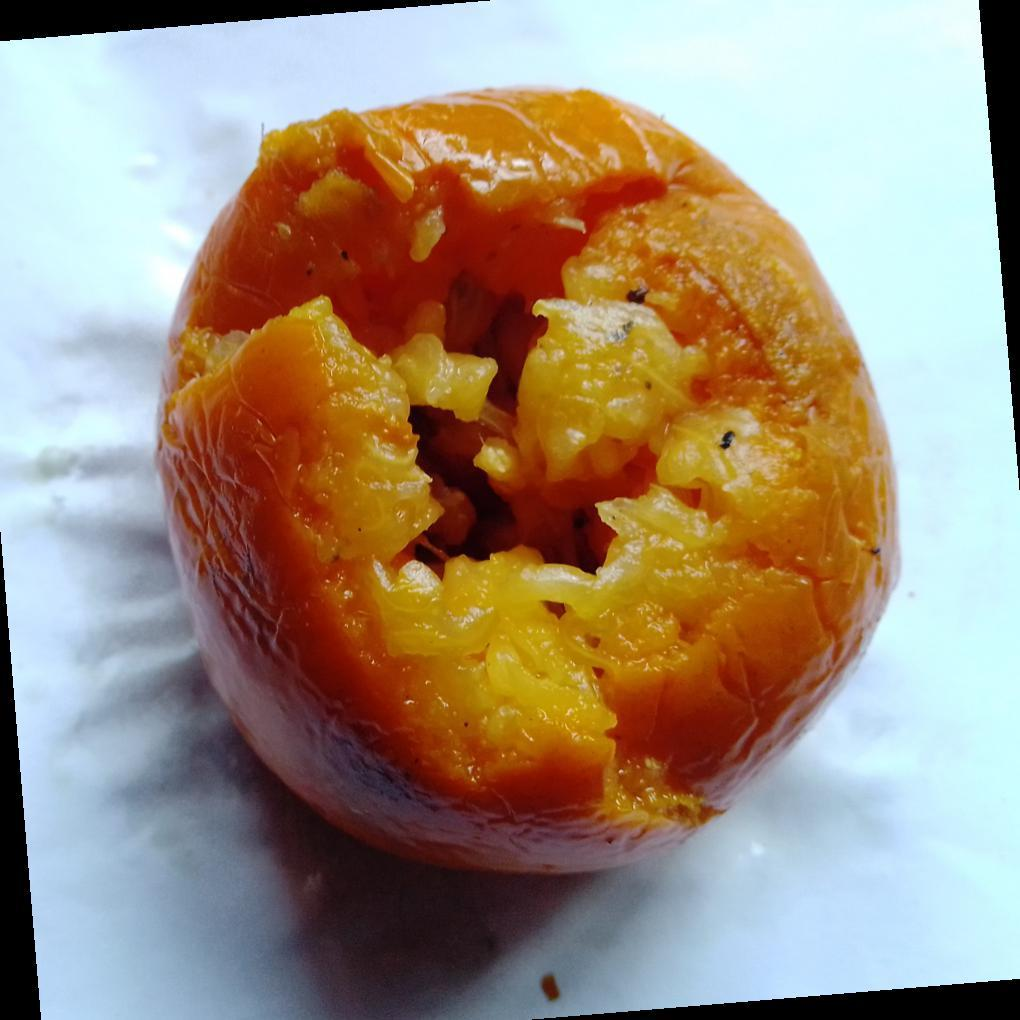FreshOrange: (154, 88, 902, 879)
